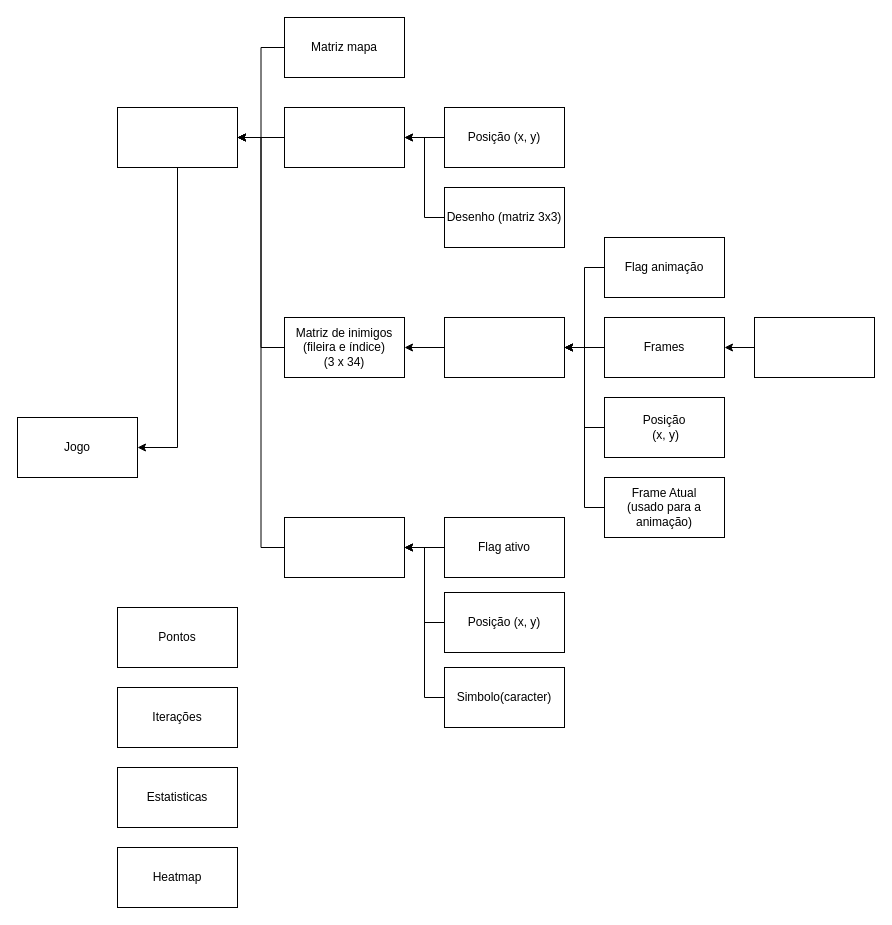
Image size: 892x925. Some labels were removed from this diagram. Here are the shapes that lost their labels. From the top down, the centre of each, then its label:
point (177, 137): Mapa
point (344, 137): Jogador
point (504, 347): Inimigo
point (814, 347): Matriz 3x3
point (344, 547): Disparo
